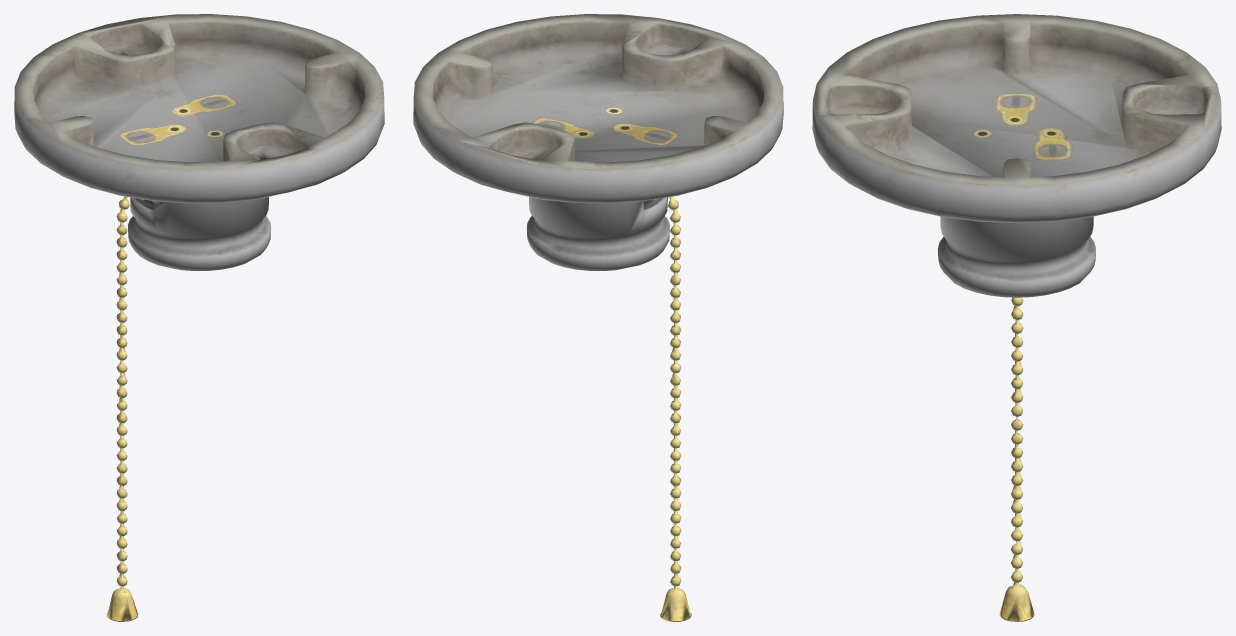
File: pull_chain_light_socket.glb
3 renders of one model, left to right at view 1: azimuth 30°, elevation 25°; view 2: azimuth 150°, elevation 25°; view 3: azimuth 270°, elevation 25°, orthographic. The views are drawn at different scales.
Parts seen in each view (by area): view 1: pull_chain_light_socket; view 2: pull_chain_light_socket; view 3: pull_chain_light_socket.
Part boxes in pixels (box(x1,y1,x2,y2)): pull_chain_light_socket: box(14, 14, 384, 621); pull_chain_light_socket: box(413, 14, 783, 621); pull_chain_light_socket: box(812, 14, 1221, 621).
Bounding box in the file's own units: 0.1103 × 0.1653 × 0.1103.
Materials: 1 (1 with a texture image).
